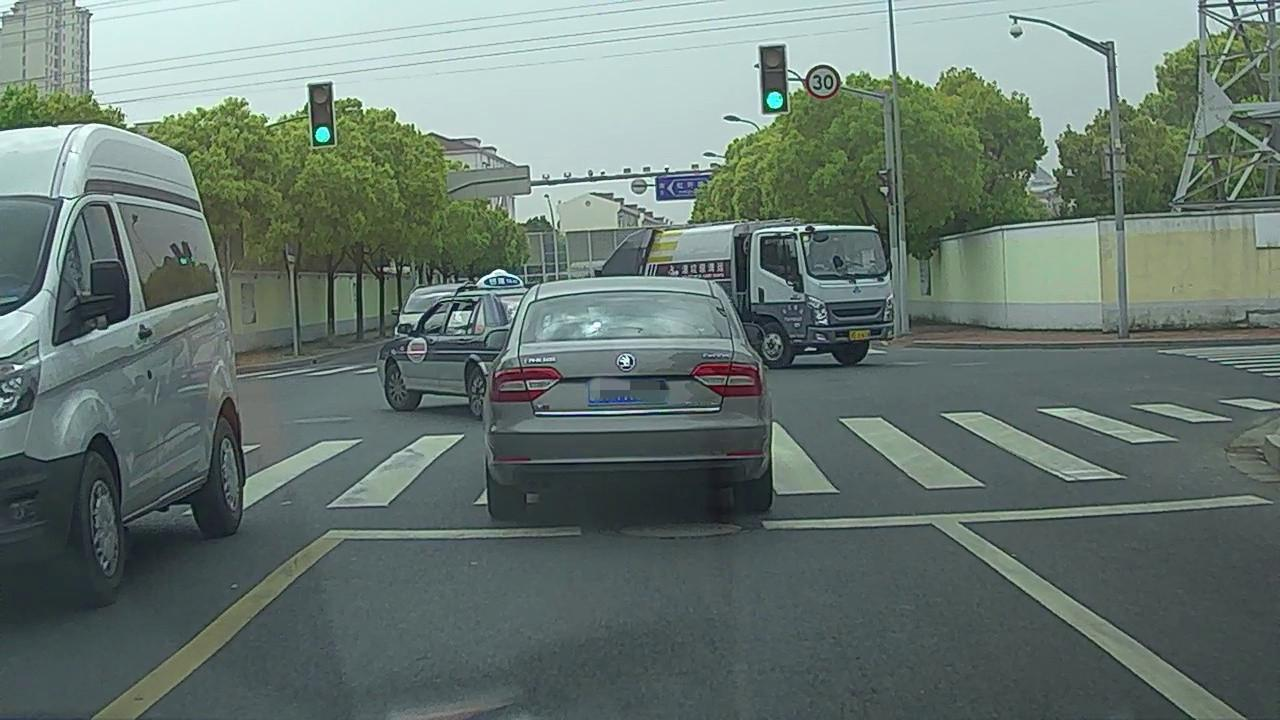traffic_light: (760, 49, 788, 114), (310, 85, 335, 146)
